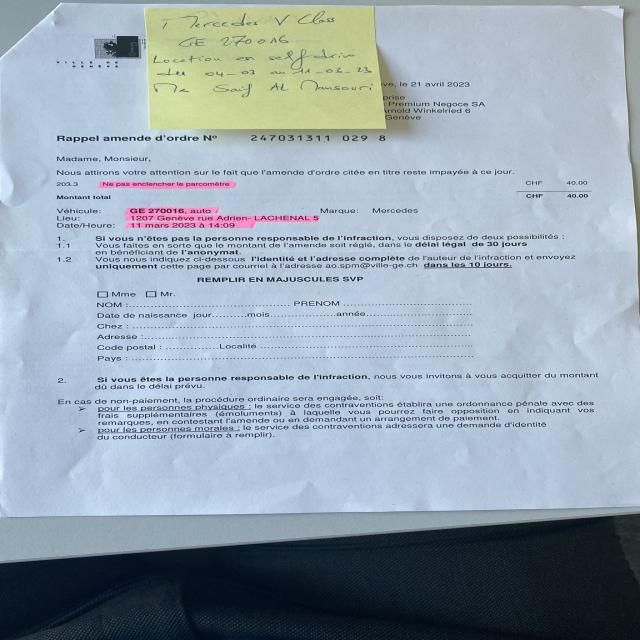paper-document-: (0, 1, 639, 518)
